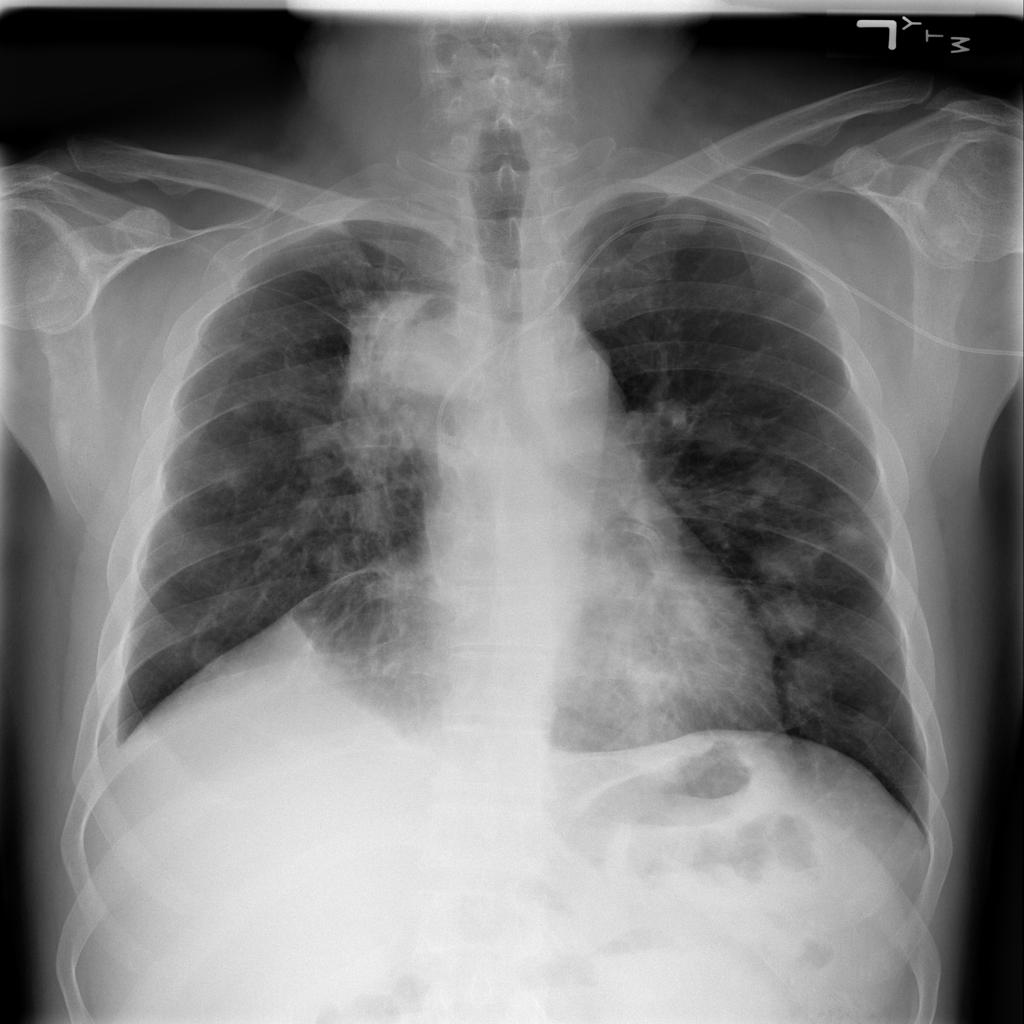nodule: (742, 521, 836, 587), (772, 646, 853, 721), (611, 643, 691, 715), (742, 457, 829, 520), (749, 591, 832, 655), (684, 404, 761, 471), (170, 620, 245, 684), (811, 489, 876, 556), (664, 197, 719, 245)
